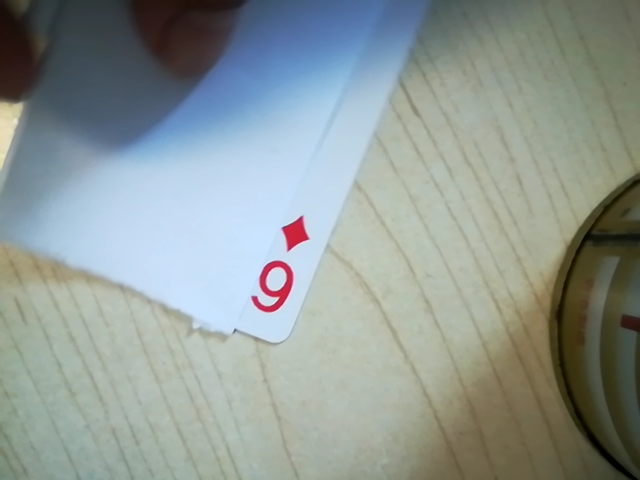fk 6: (237, 208, 311, 329)
